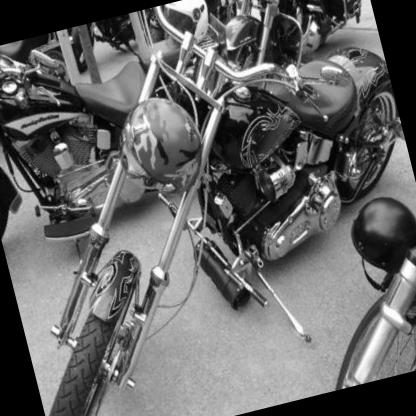moto: (1, 1, 416, 416), (1, 18, 224, 267)
